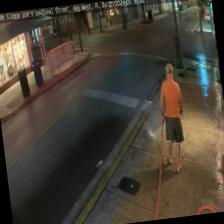person: (154, 62, 190, 173)
